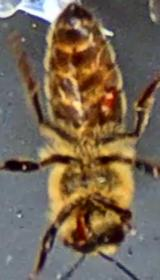varroa_mite: (98, 80, 120, 120)
